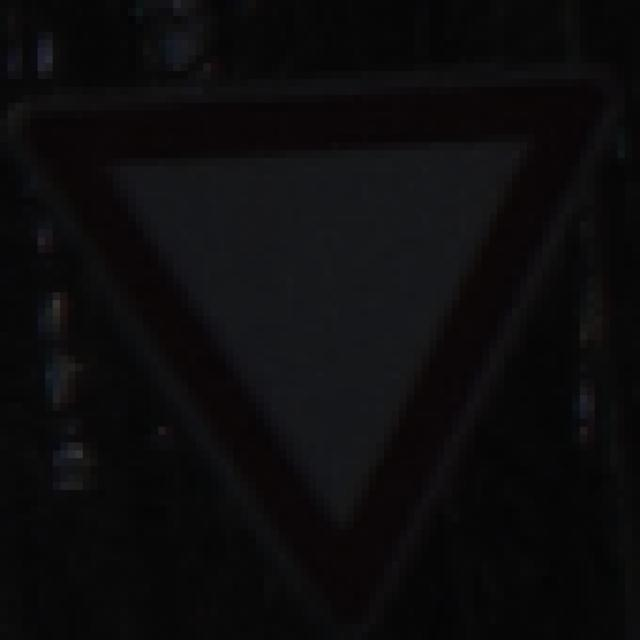Give Way: (54, 64, 588, 586)
